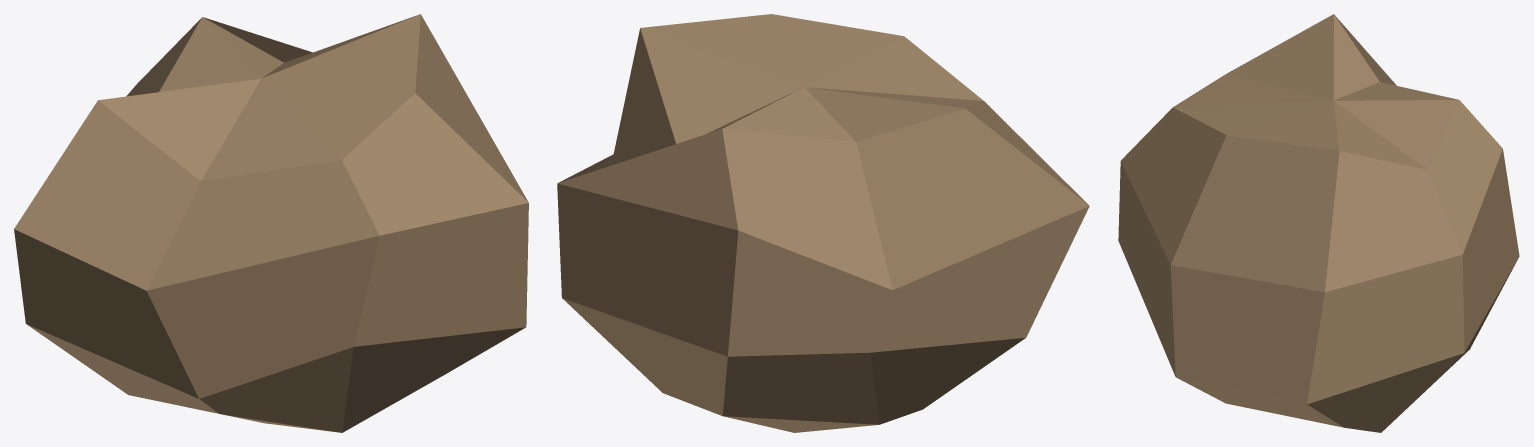
Rendered from rock_a.glb.
The picture shows the model from 3 angles, left to right: view 1: azimuth 30°, elevation 25°; view 2: azimuth 150°, elevation 25°; view 3: azimuth 270°, elevation 25°; orthographic projection. The views are drawn at different scales.
Visible parts, largest first — view 1: rock_a; view 2: rock_a; view 3: rock_a.
Boxes of the visible parts, bbox=[...] form: rock_a: bbox=[14, 14, 528, 432]; rock_a: bbox=[557, 14, 1089, 432]; rock_a: bbox=[1118, 14, 1519, 432].
Size of the model in its own units: 3.17 by 2.17 by 2.4.
